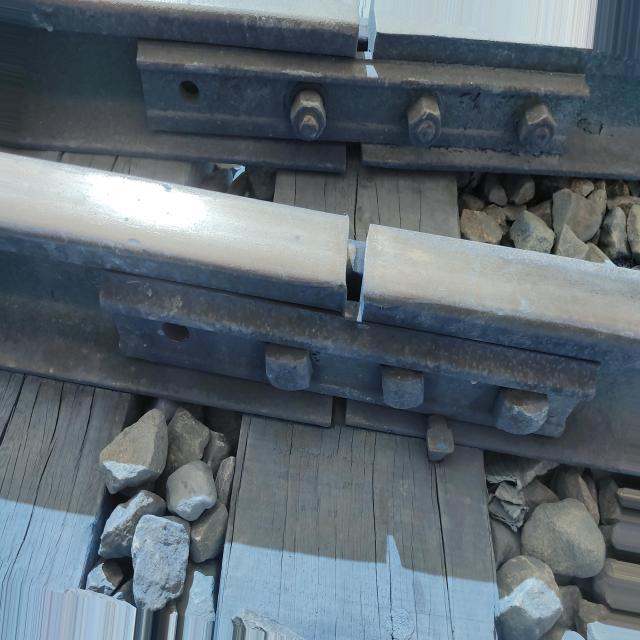Defective Joint: (100, 271, 600, 437), (136, 39, 603, 155)
